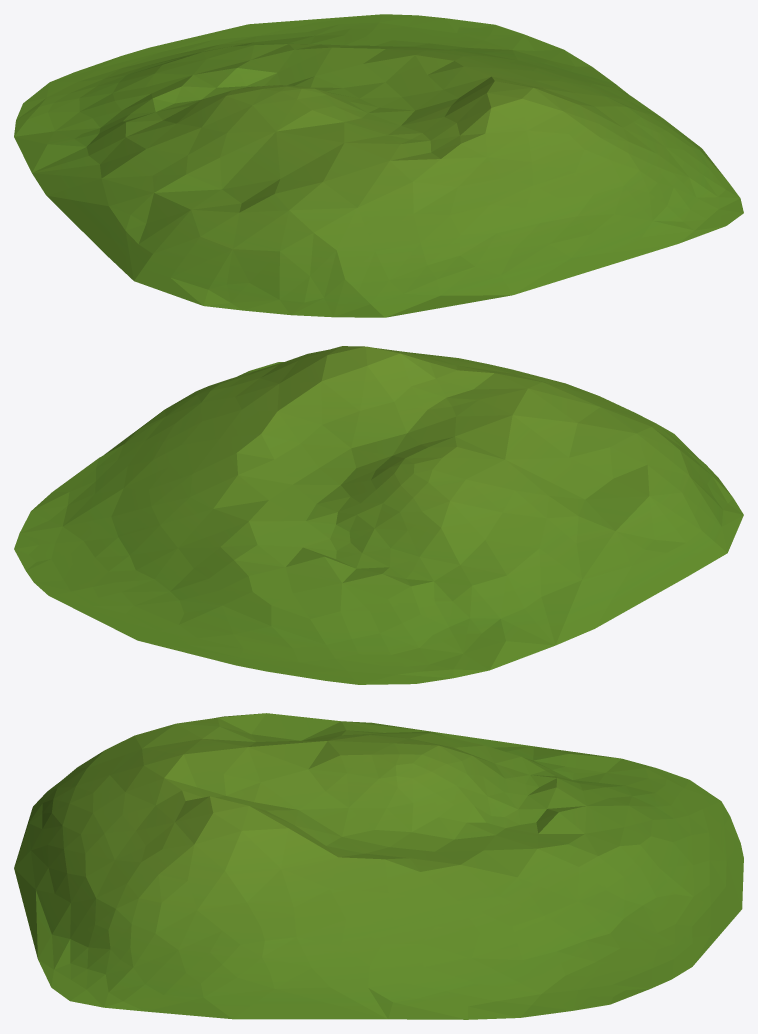
File: Hill_03.fbx
3 views of the same model, one above another, from view 1: azimuth 30°, elevation 25°; view 2: azimuth 150°, elevation 25°; view 3: azimuth 270°, elevation 25° (orthographic). The views are drawn at different scales.
Parts seen in each view (by area): view 1: Hill_03; view 2: Hill_03; view 3: Hill_03.
Part boxes in pixels (box(x1,y1,x2,y2)): Hill_03: box(14, 14, 743, 317); Hill_03: box(14, 346, 743, 684); Hill_03: box(14, 713, 743, 1019).
Size of the model in its own units: 5768 by 1009 by 6113.
